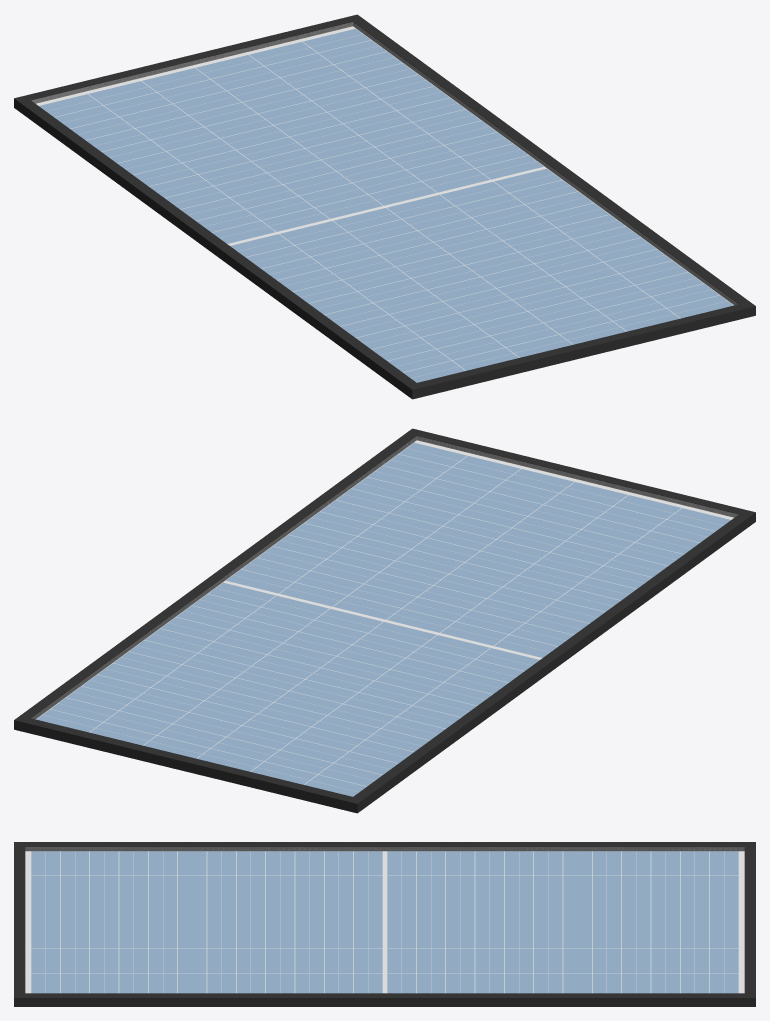
Rendered from my_solar_panel.glb.
3 renders of one model, top to bottom at view 1: azimuth 30°, elevation 25°; view 2: azimuth 150°, elevation 25°; view 3: azimuth 270°, elevation 25°, orthographic. The views are drawn at different scales.
Parts seen in each view (by area): view 1: Solar_Glass, Solar_Cells_Top, Solar_Cells_Bottom, Solar_Backsheet, Frame_Part_1, Frame_Part_2, Frame_Part_4, Frame_Part_3; view 2: Solar_Glass, Solar_Cells_Bottom, Solar_Cells_Top, Solar_Backsheet, Frame_Part_1, Frame_Part_2, Frame_Part_3, Frame_Part_4; view 3: Solar_Glass, Solar_Cells_Bottom, Solar_Cells_Top, Frame_Part_2, Solar_Backsheet, Frame_Part_1, Frame_Part_3, Frame_Part_4, Solar_Cells_Bottom_Busbars, Solar_Cells_Top_Busbars.
Part boxes in pixels (left/top/right/bottom): Solar_Glass: left=31, top=22, right=737, bottom=382; Solar_Cells_Top: left=39, top=28, right=543, bottom=243; Solar_Cells_Bottom: left=230, top=168, right=733, bottom=382; Solar_Backsheet: left=36, top=26, right=732, bottom=372; Frame_Part_1: left=14, top=96, right=422, bottom=399; Frame_Part_2: left=347, top=14, right=755, bottom=317; Frame_Part_4: left=417, top=304, right=745, bottom=396; Frame_Part_3: left=25, top=17, right=352, bottom=103; Solar_Glass: left=32, top=436, right=738, bottom=796; Solar_Cells_Bottom: left=226, top=442, right=730, bottom=657; Solar_Cells_Top: left=36, top=582, right=539, bottom=796; Solar_Backsheet: left=37, top=440, right=733, bottom=786; Frame_Part_1: left=347, top=510, right=755, bottom=813; Frame_Part_2: left=14, top=428, right=422, bottom=731; Frame_Part_3: left=24, top=718, right=352, bottom=810; Frame_Part_4: left=417, top=431, right=744, bottom=517; Solar_Glass: left=25, top=847, right=744, bottom=992; Solar_Cells_Bottom: left=31, top=851, right=382, bottom=993; Solar_Cells_Top: left=387, top=851, right=738, bottom=993; Frame_Part_2: left=14, top=993, right=755, bottom=1006; Solar_Backsheet: left=25, top=851, right=744, bottom=993; Frame_Part_1: left=14, top=842, right=755, bottom=851; Frame_Part_3: left=744, top=847, right=755, bottom=993; Frame_Part_4: left=14, top=847, right=25, bottom=993; Solar_Cells_Bottom_Busbars: left=45, top=852, right=368, bottom=992; Solar_Cells_Top_Busbars: left=401, top=852, right=724, bottom=992.
Bounding box in the file's own units: 1.13 × 0.03 × 2.28.
